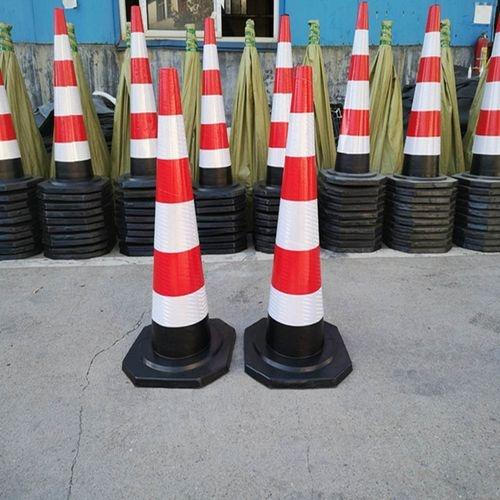cone_barrel: (135, 69, 222, 380), (257, 70, 339, 387), (40, 11, 101, 189), (400, 3, 453, 171), (114, 11, 161, 188), (340, 0, 387, 173), (192, 20, 235, 196), (264, 16, 296, 197), (460, 38, 499, 184)
